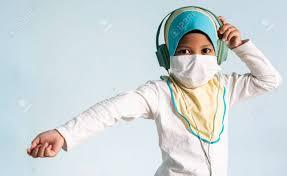Wearing Mask: (141, 0, 249, 98)
